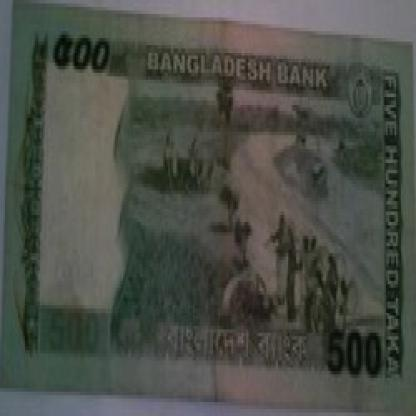500 taka: (32, 10, 128, 87)
currency: (3, 7, 415, 415)
